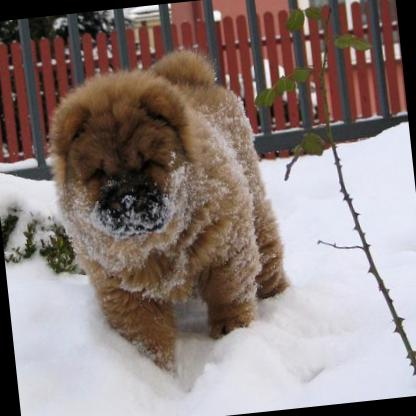chow: (37, 36, 296, 386)
